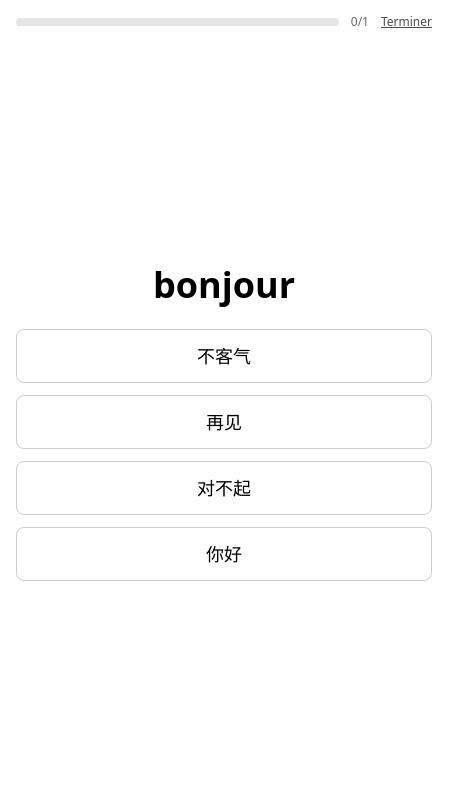
Scenario: SessionScreen › QCM en hanzi : après la note, chaque proposition montre pinyin, sens et bouton d’écoute
Expected: the text "bonjour" is shown, [153,260,295,309]
Click the button "你好". click: (224, 554)
box: [16,527,432,581]
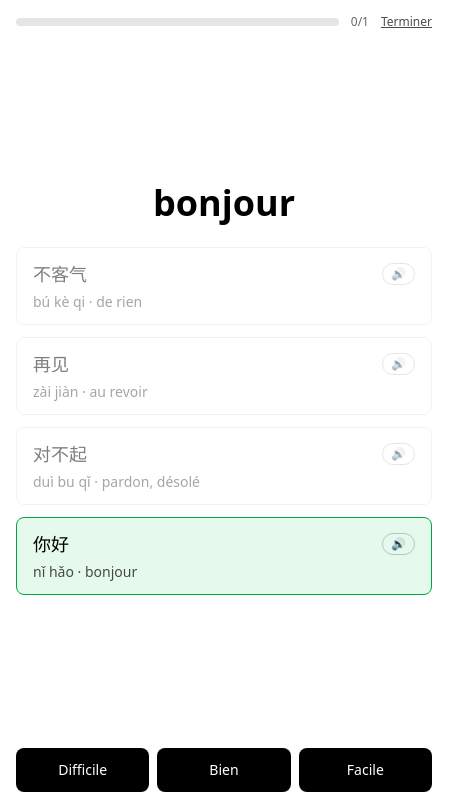
Now the text "nǐ hǎo · bonjour" is shown, box [33,562,137,581]
Now the button named "Écouter 你好" is shown, box [382,533,415,555]
Now the button "Bien" is shown, box [157,748,291,792]
